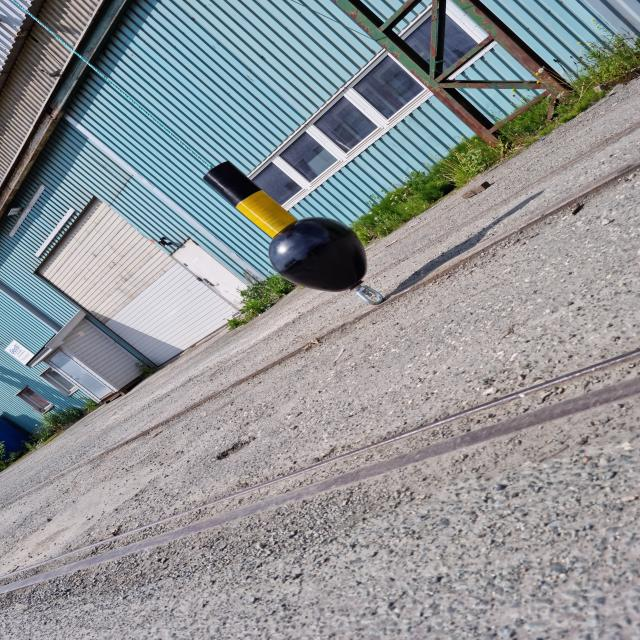east: (199, 160, 368, 294)
